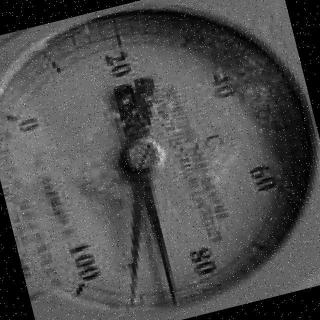gauge: (0, 1, 320, 314), (114, 126, 172, 184), (53, 256, 109, 316), (0, 91, 36, 149), (122, 288, 143, 310), (165, 289, 183, 311)
